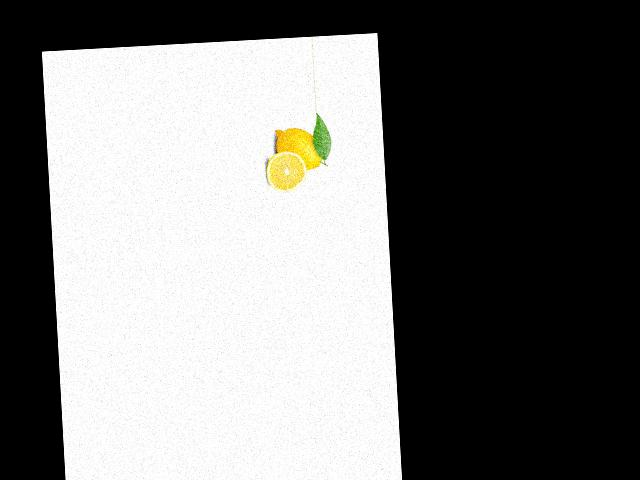lemon: (271, 120, 330, 175)
